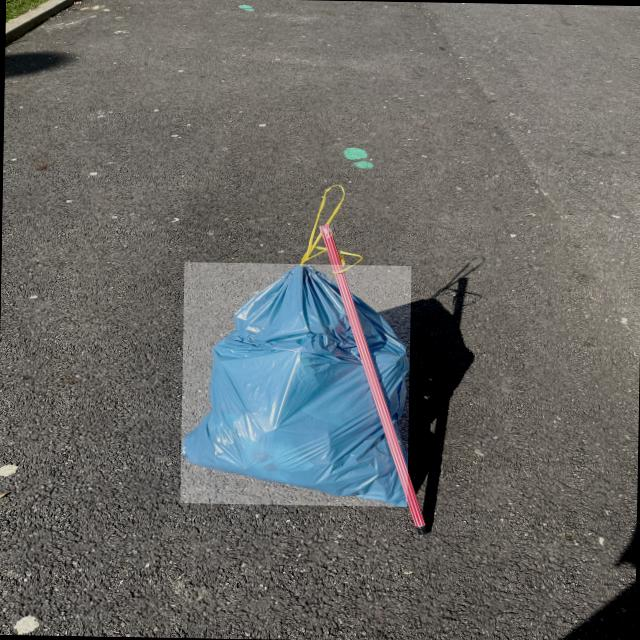Garbage bag: (182, 264, 407, 507), (352, 296, 407, 424)
